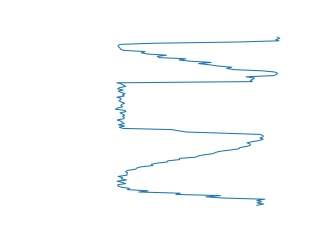distributaryChannelFill: (112, 73, 269, 142)
mouthBar: (113, 34, 282, 76)
underwaterDistributaryChannel: (114, 138, 267, 209)
